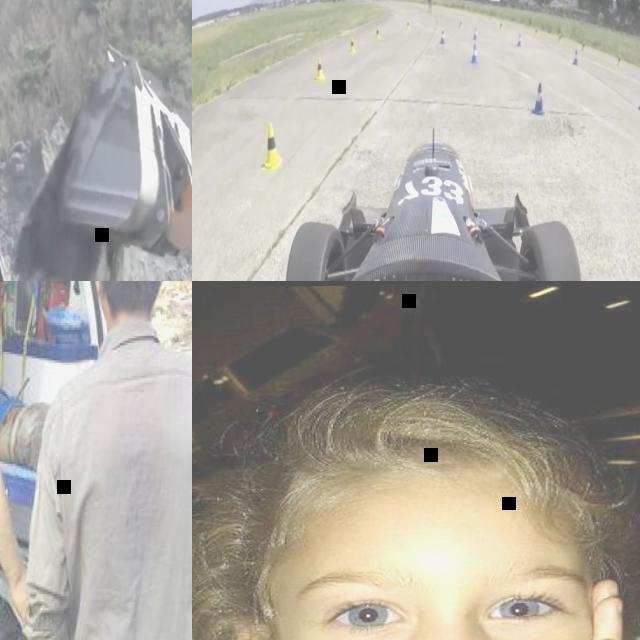helmet: (29, 281, 192, 640)
machinery: (50, 39, 192, 281)
no_helmet: (192, 388, 596, 558)
no_vest: (72, 348, 192, 640)
person: (192, 378, 640, 640), (428, 0, 433, 11)
safety_cone: (262, 123, 286, 172), (530, 84, 546, 118), (316, 56, 326, 80), (470, 41, 479, 66), (350, 34, 358, 54), (572, 46, 578, 66), (616, 54, 623, 70), (440, 28, 446, 46), (517, 32, 523, 48), (375, 25, 381, 40), (473, 25, 479, 40), (581, 38, 587, 52), (557, 32, 563, 44), (459, 18, 464, 28), (535, 24, 539, 36), (499, 19, 503, 31), (406, 19, 410, 30)
vehicle: (0, 281, 192, 640), (278, 122, 601, 281)
